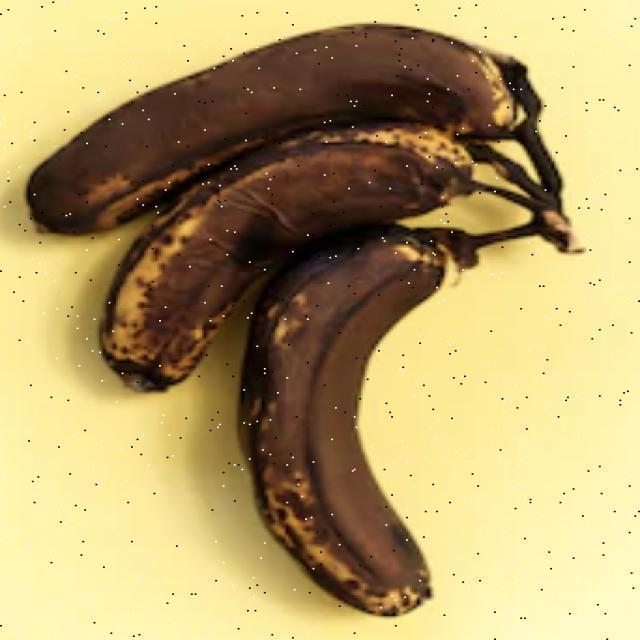Banana: (24, 21, 584, 616)
